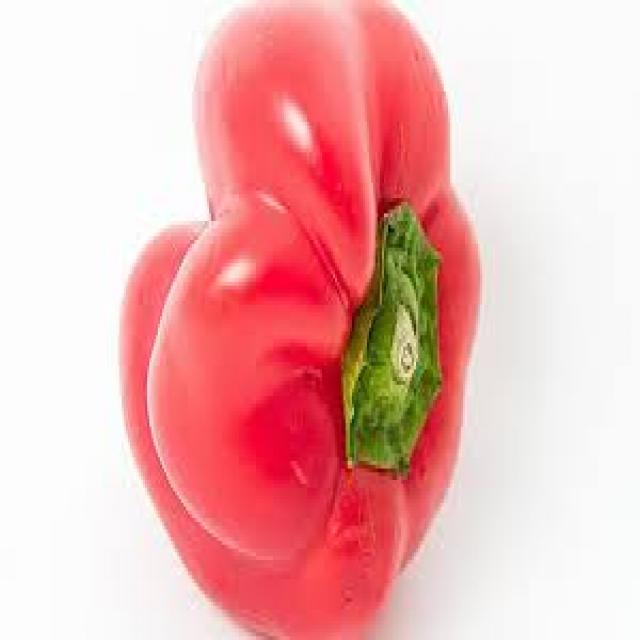organic waste: (115, 0, 478, 636)
